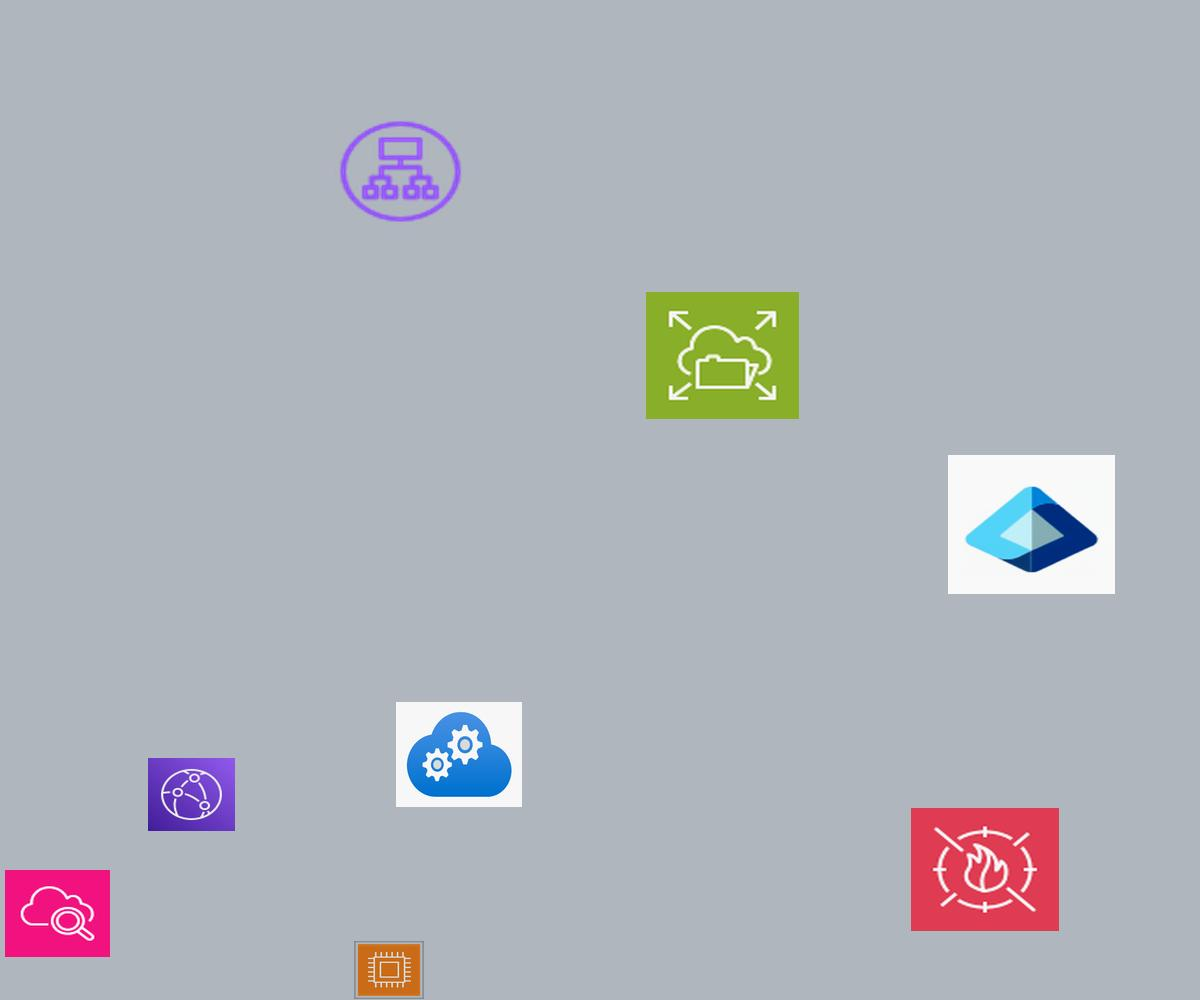AWS-Category_Compute: (354, 941, 424, 999)
AWS-CloudFront: (148, 758, 235, 831)
AWS-CloudWatch: (5, 870, 110, 957)
AWS-EFS: (646, 292, 799, 419)
AWS-Res_Elastic-Load-Balancing_Application-Load-Balancer: (335, 117, 466, 226)
AWS-WAF: (911, 808, 1059, 931)
Azure_cloud_services: (396, 702, 522, 807)
Azure_microsoft_entra: (948, 455, 1115, 594)
